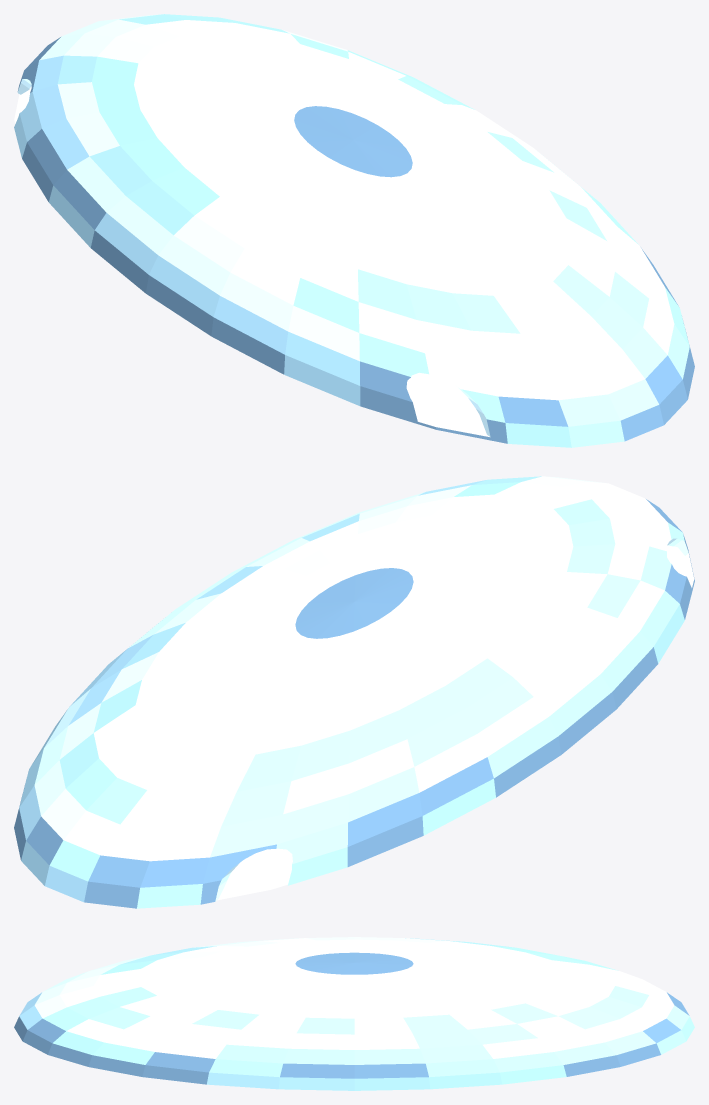
Rendered from ice-hall.glb.
The picture shows the model from 3 angles, top to bottom: view 1: azimuth 30°, elevation 25°; view 2: azimuth 150°, elevation 25°; view 3: azimuth 270°, elevation 25°; orthographic projection. The views are drawn at different scales.
Visible parts, largest first — view 1: ice-hall; view 2: ice-hall; view 3: ice-hall.
Part boxes in pixels (left/top/right/bottom): ice-hall: left=14, top=14, right=694, bottom=447; ice-hall: left=14, top=476, right=694, bottom=908; ice-hall: left=14, top=937, right=694, bottom=1090.
Size of the model in its own units: 76 by 18 by 172.
